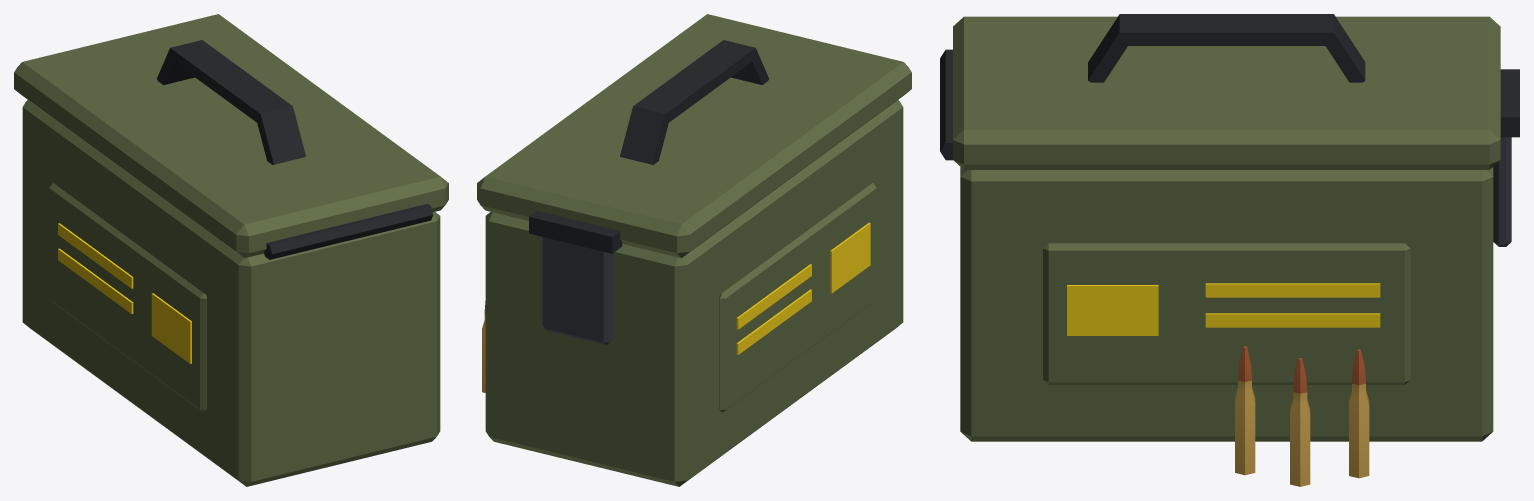
Rendered from ammo_box.glb.
3 renders of one model, left to right at view 1: azimuth 30°, elevation 25°; view 2: azimuth 150°, elevation 25°; view 3: azimuth 270°, elevation 25°, orthographic. The views are drawn at different scales.
Visible parts, largest first — view 1: Body; view 2: Body; view 3: Body.
Boxes of the visible parts, box(x1,y1,x2,y2) form: Body: box(14, 14, 448, 486); Body: box(477, 14, 911, 486); Body: box(940, 14, 1519, 486).
Bounding box in the file's own units: 0.2082 × 0.219 × 0.3155.
